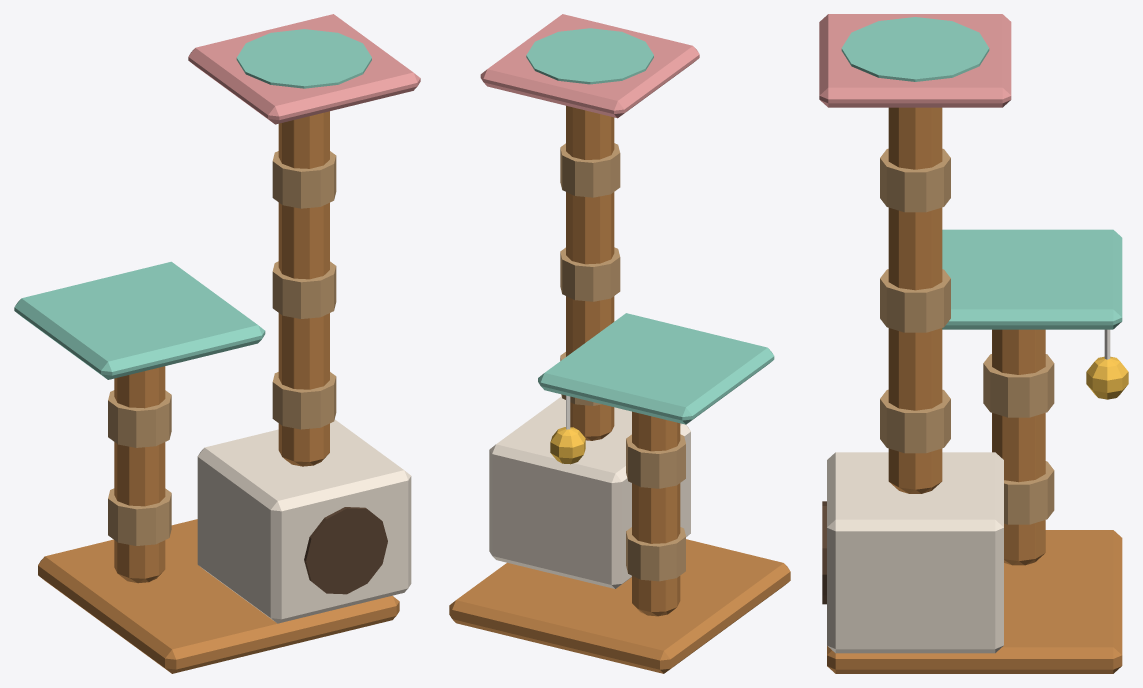
The model's file is CatCafe_Furniture_CatTree.glb.
3 views of the same model, side by side, from view 1: azimuth 30°, elevation 25°; view 2: azimuth 150°, elevation 25°; view 3: azimuth 270°, elevation 25° (orthographic). The views are drawn at different scales.
Parts seen in each view (by area): view 1: CatCafe_Furniture_CatTree; view 2: CatCafe_Furniture_CatTree; view 3: CatCafe_Furniture_CatTree.
Boxes of the visible parts, x1,y1,x2,y2 form: CatCafe_Furniture_CatTree: (14,14,420,673); CatCafe_Furniture_CatTree: (449,14,790,673); CatCafe_Furniture_CatTree: (819,14,1128,673).
Bounding box in the file's own units: 2.35 × 4.47 × 2.09.
1 material, 1 textured.
